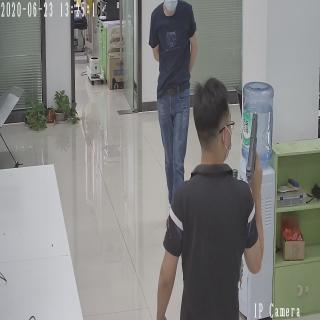gun: (246, 111, 264, 184)
